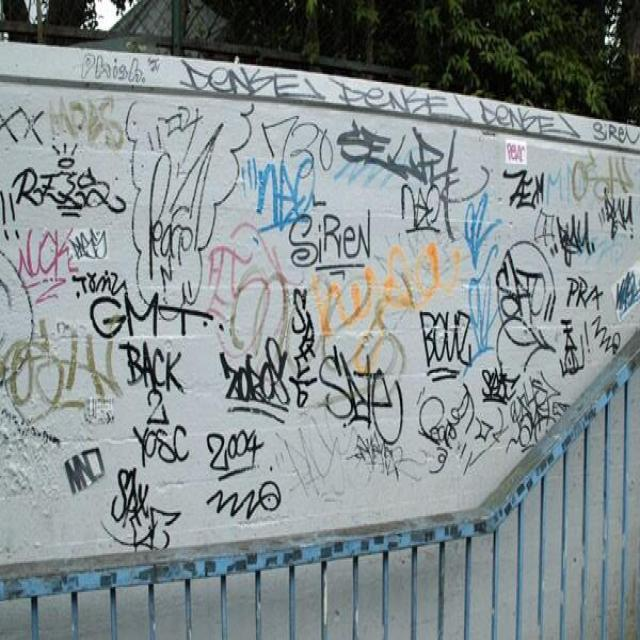-: (495, 162, 640, 374), (127, 97, 256, 321), (314, 242, 462, 372), (180, 60, 475, 121), (340, 120, 460, 239), (78, 272, 215, 347), (1, 324, 121, 408), (210, 224, 286, 356), (319, 342, 414, 439), (256, 117, 336, 228), (482, 368, 574, 449), (208, 427, 283, 522), (19, 224, 106, 305), (418, 394, 506, 474), (110, 464, 182, 554), (12, 162, 130, 216), (1, 100, 123, 152), (220, 338, 292, 418), (465, 190, 498, 361), (0, 247, 34, 393), (288, 214, 373, 268), (481, 98, 580, 140), (287, 278, 318, 411), (421, 306, 473, 384), (350, 431, 411, 484), (124, 344, 184, 396), (66, 443, 108, 498), (82, 53, 148, 86), (594, 120, 638, 155)
